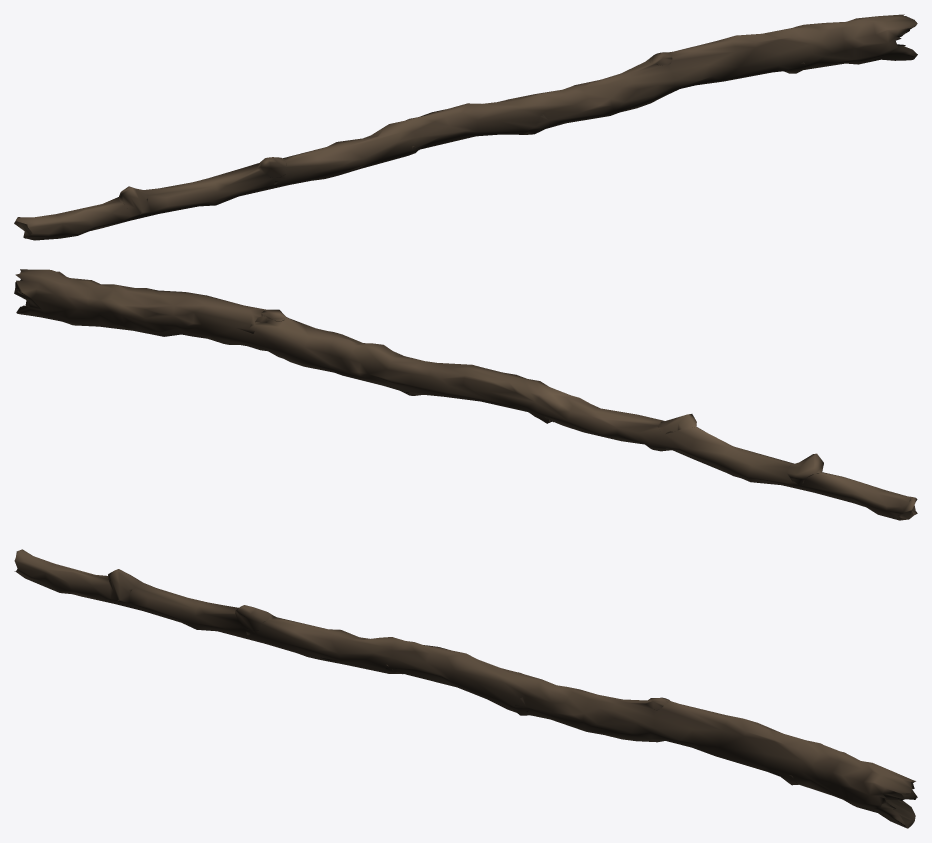
File: trees-dead-trees-wood-dead-branch_v3.fbx
3 views of the same model, one above another, from view 1: azimuth 30°, elevation 25°; view 2: azimuth 150°, elevation 25°; view 3: azimuth 330°, elevation 25° (orthographic). The views are drawn at different scales.
Visible parts, largest first — view 1: Dead Branch_v3; view 2: Dead Branch_v3; view 3: Dead Branch_v3.
Part boxes in pixels (<box>): Dead Branch_v3: <box>14,14,917,240</box>; Dead Branch_v3: <box>14,269,917,520</box>; Dead Branch_v3: <box>14,549,917,828</box>.
Size of the model in its own units: 1.5 by 0.1015 by 0.0841.
